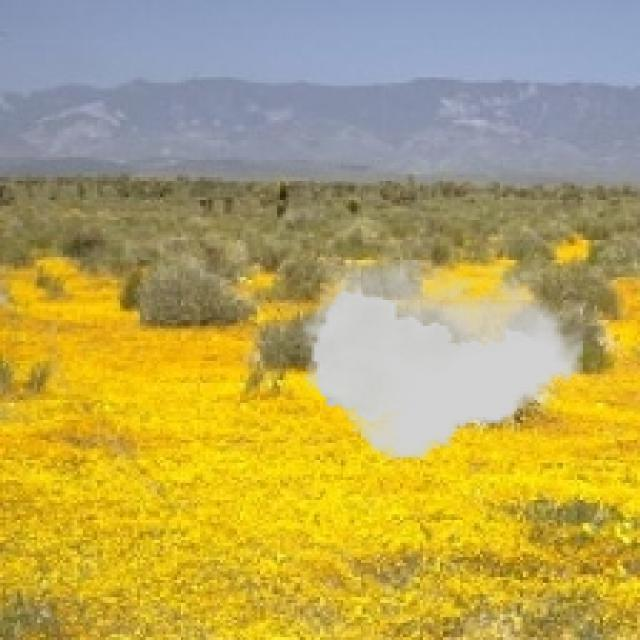Smoke: (300, 260, 583, 460)
